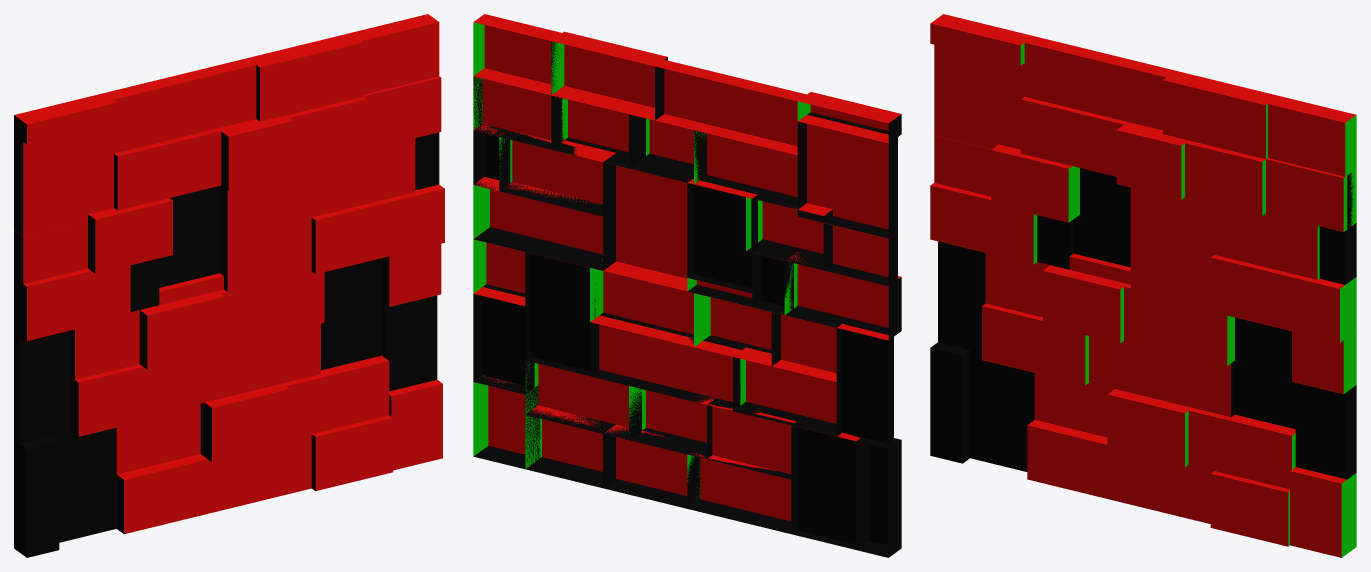
File: dungeon_wall.fbx
3 renders of one model, left to right at view 1: azimuth 30°, elevation 25°; view 2: azimuth 150°, elevation 25°; view 3: azimuth 330°, elevation 25°, orthographic.
Visible parts, largest first — view 1: hammermesh-63; view 2: hammermesh-63; view 3: hammermesh-63.
Part boxes in pixels (x1=…): hammermesh-63: x1=14, y1=14, x2=444, y2=557; hammermesh-63: x1=473, y1=14, x2=901, y2=557; hammermesh-63: x1=930, y1=14, x2=1356, y2=557.
Size of the model in its own units: 128 by 128 by 10.95.
